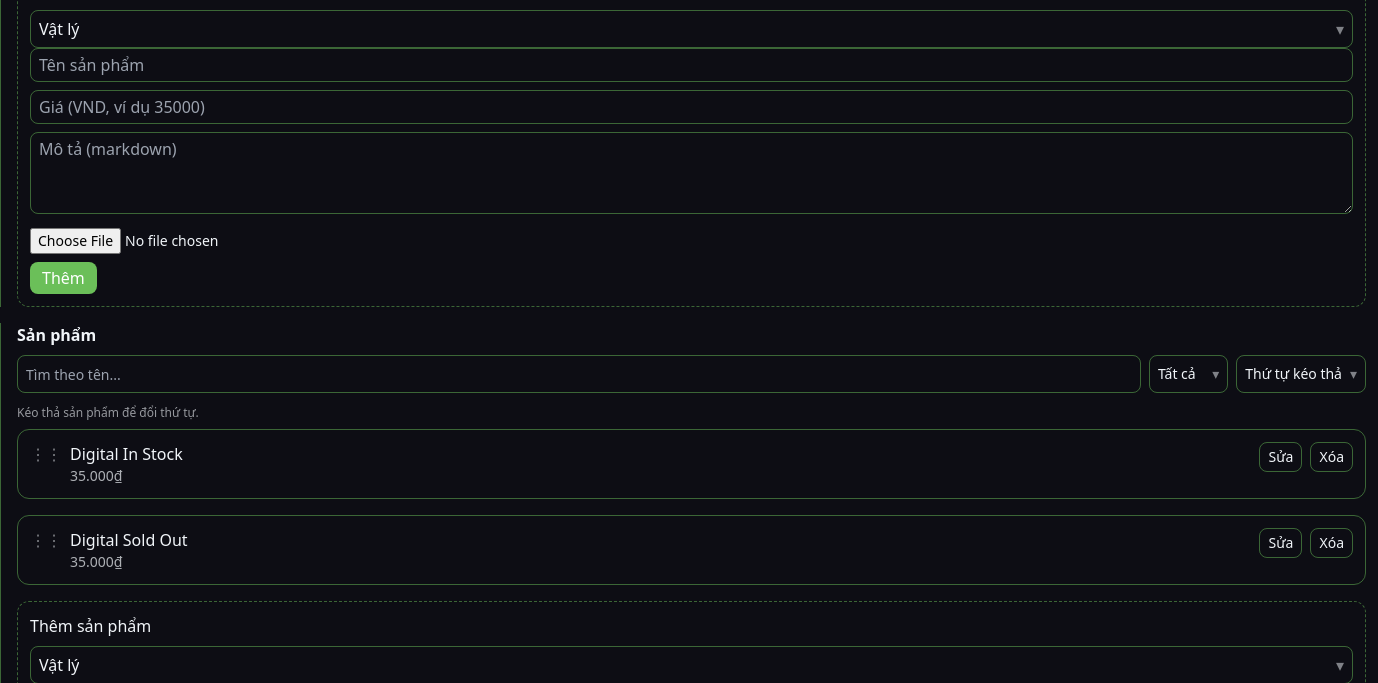
Test: AdminProducts - digital products › filters a digital product as sold out by its flattened stock_qty, not its (empty) variants
This screenshot has width=1378, height=683.
(page scrolled)
Step 1. Click the button with aria-label "Tất cả" → (1189, 374), box [1149,355,1228,393]
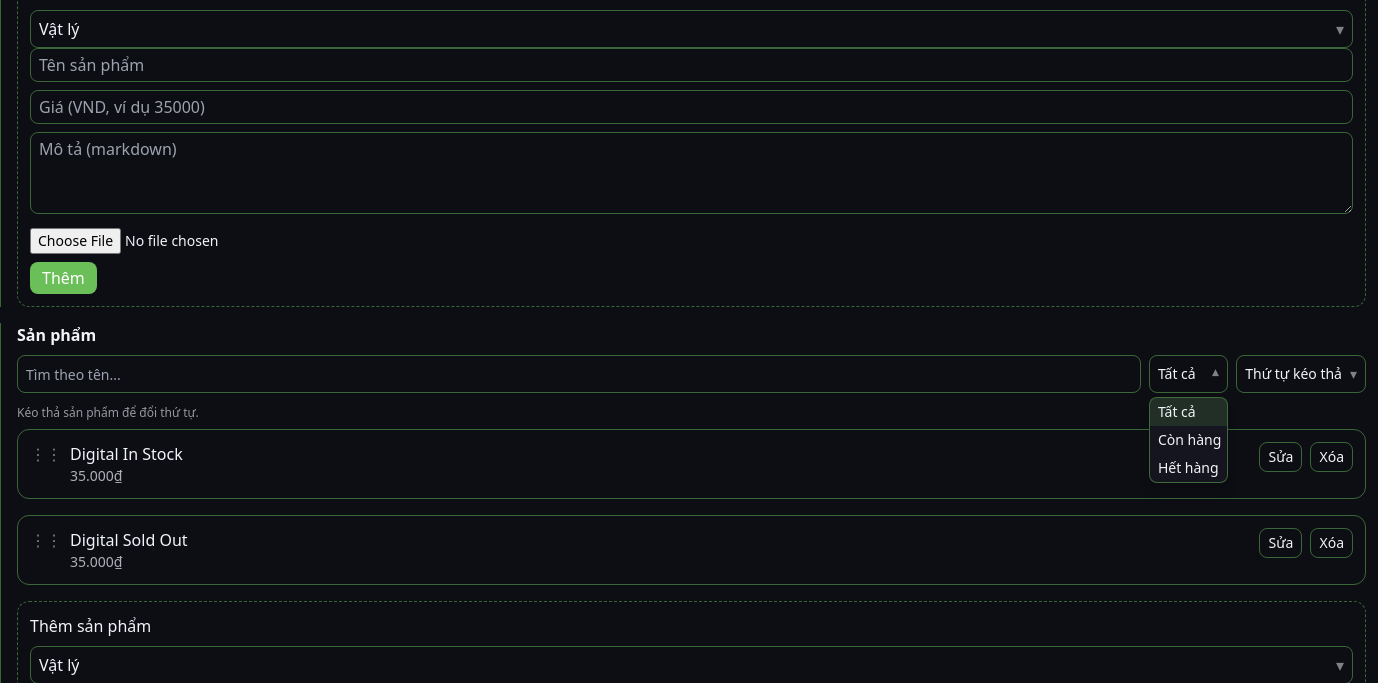
Step 2. Click the button "Hết hàng" → (1189, 468), box [1150,454,1227,482]
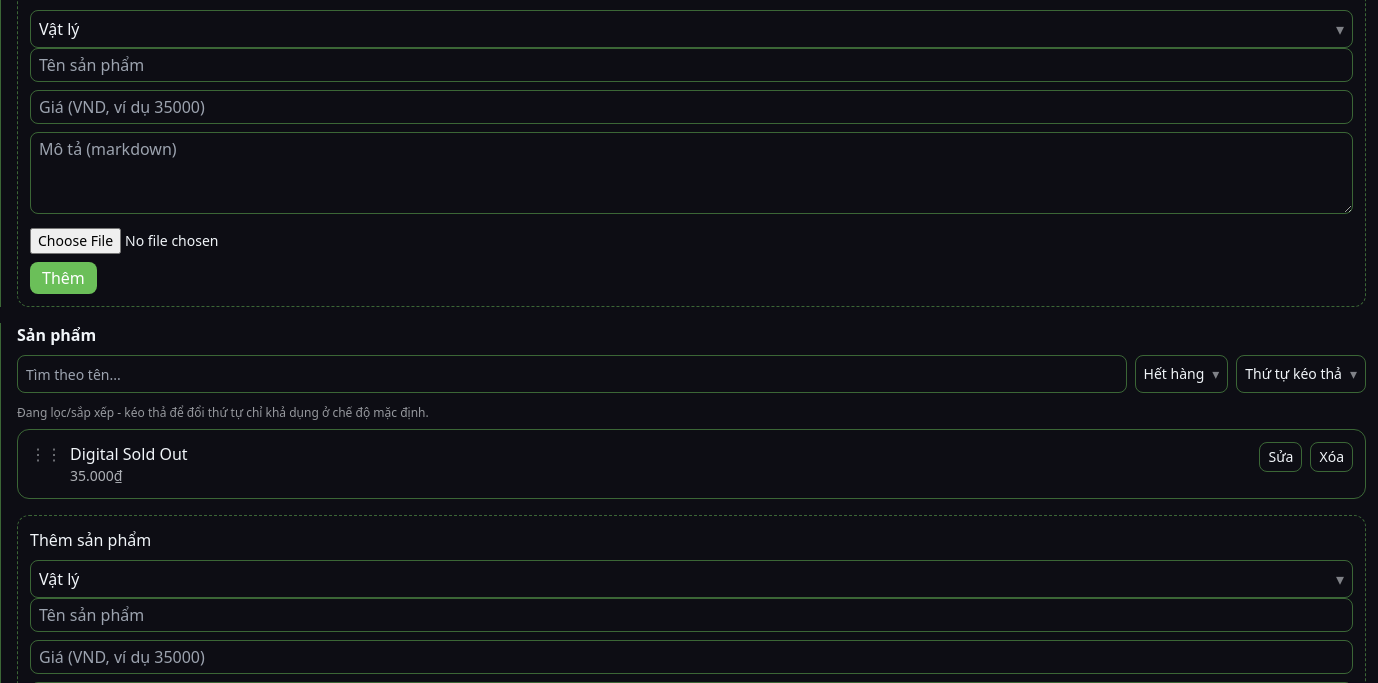
Expected: the text "Digital Sold Out" is shown, [70,442,188,466]
Expected: the text "Digital In Stock" is gone
